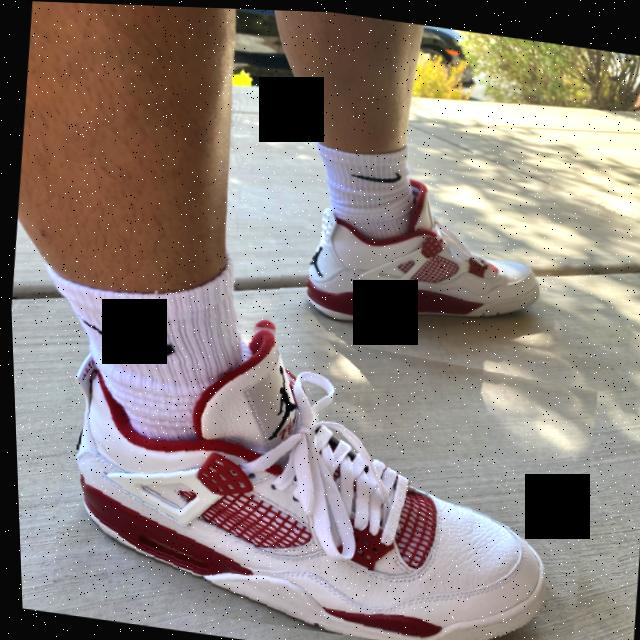shoe: (38, 289, 605, 640), (270, 153, 564, 359)
